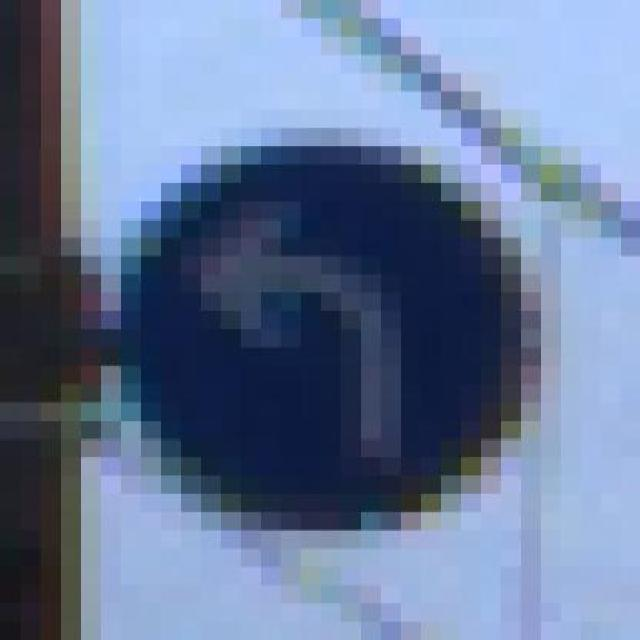Turn left ahead: (120, 91, 560, 548)
